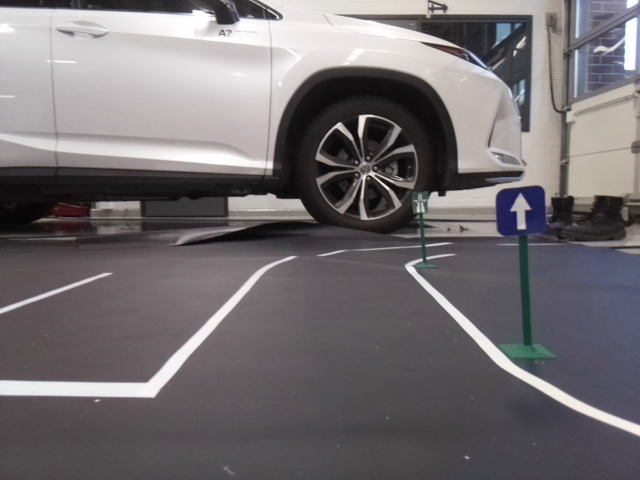HighwayEntrance: (413, 191, 427, 213)
OneWay: (496, 189, 545, 232)
